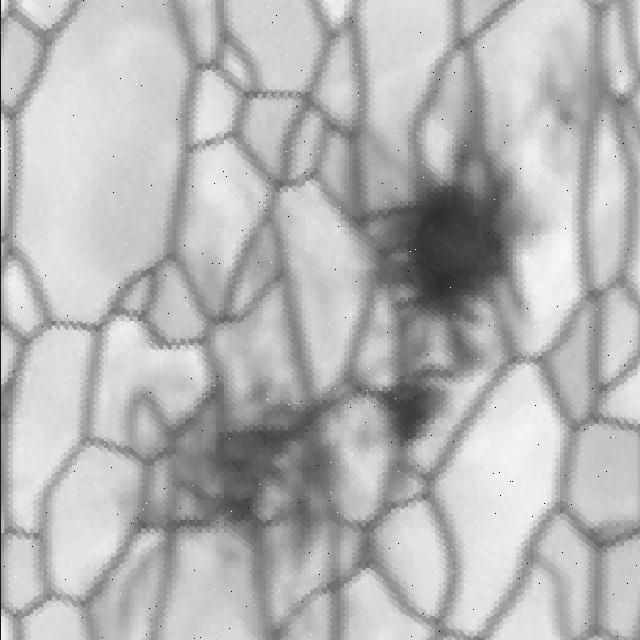good_void: (338, 136, 545, 454), (99, 365, 350, 594), (523, 15, 607, 156)
